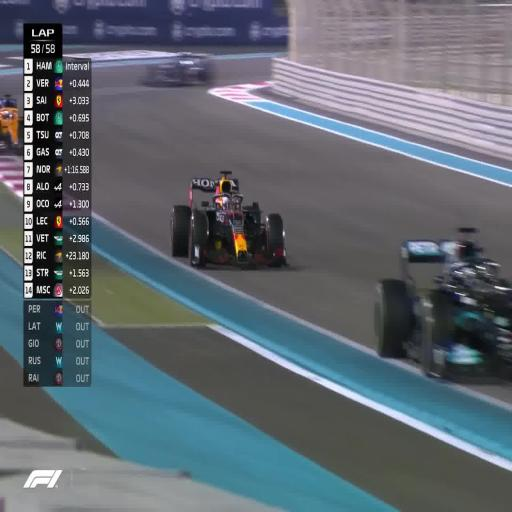f1_car: (375, 228, 512, 379), (170, 172, 286, 266), (142, 53, 214, 85), (0, 94, 20, 150)
